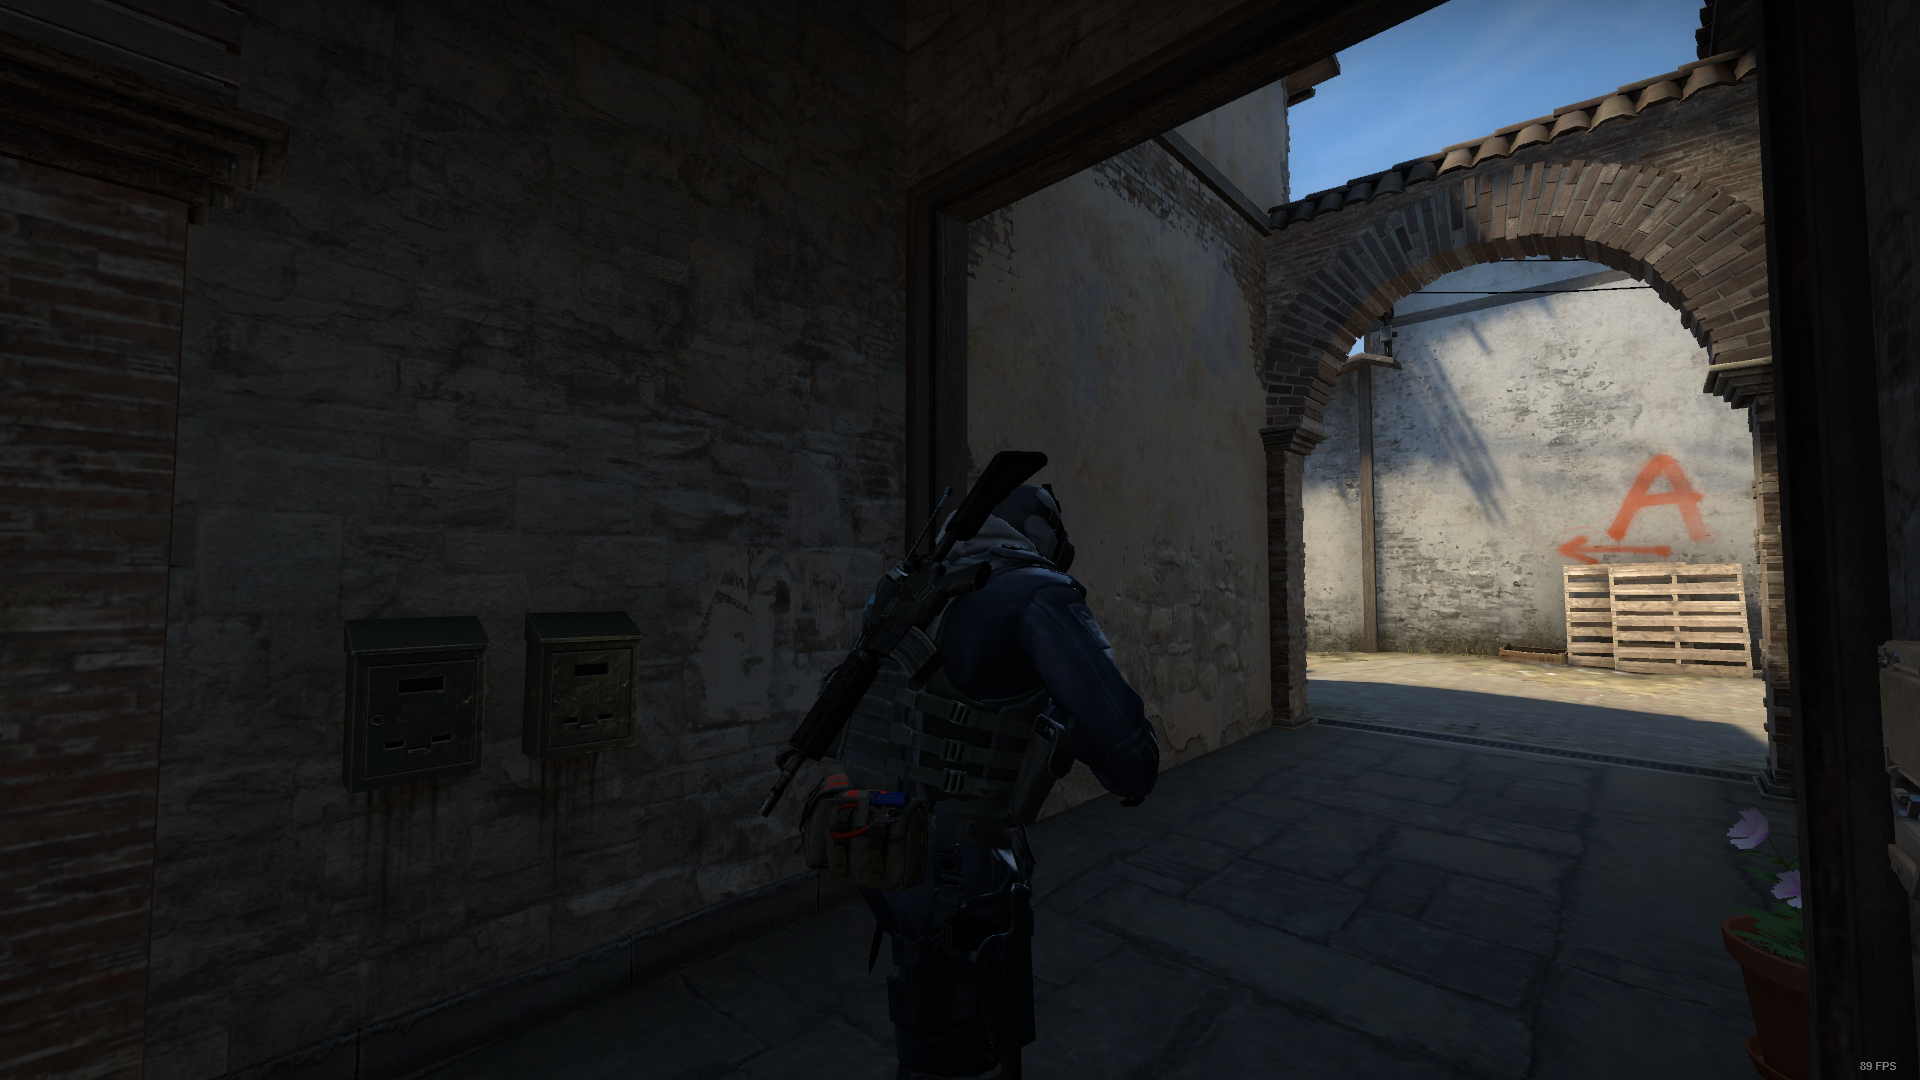ct: (802, 483, 1156, 1080)
